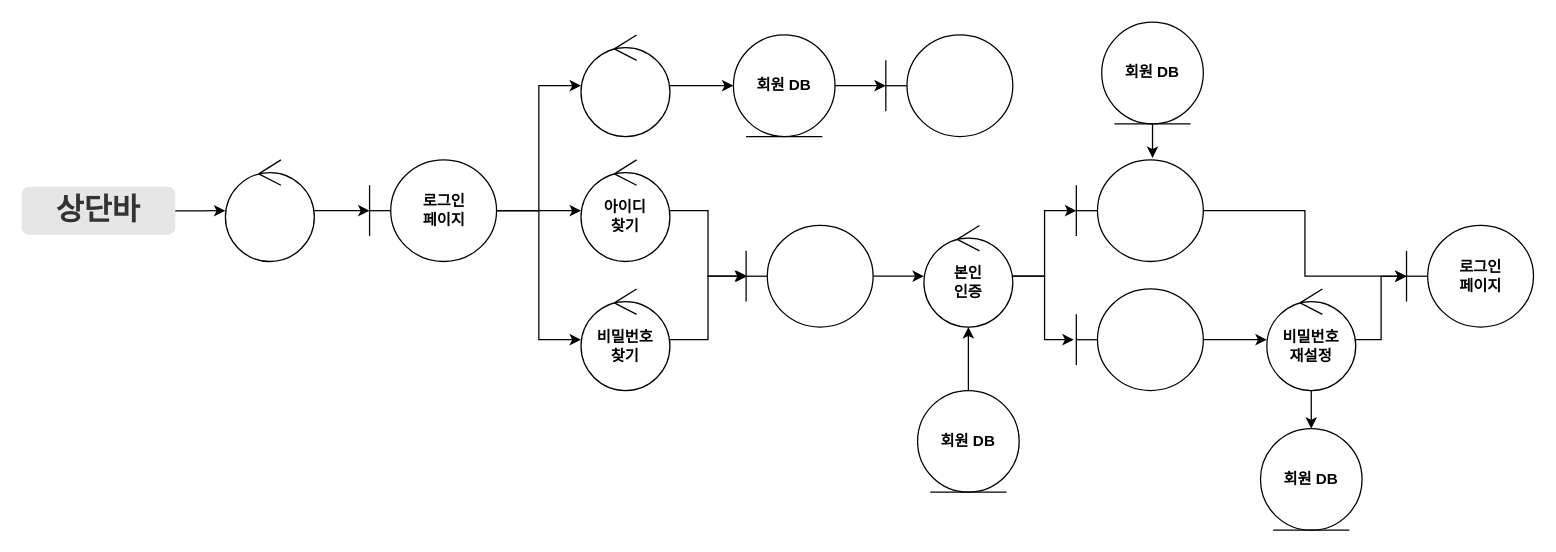
Some shapes in this 1556 by 552 pixel diagram are drawn without their labels. The shapes that lost their labels are listed below. From the top down, each one's centre as x and y in pixels, then its label:
the point at 625,85: 로그인
the point at 949,85: 메인 페이지
the point at 269,210: 로그인 회원가입 버튼
the point at 1139,210: 아이디 찾기 페이지
the point at 809,275: 본인 인증 페이지
the point at 1139,339: 비밀번호 재설정 페이지
